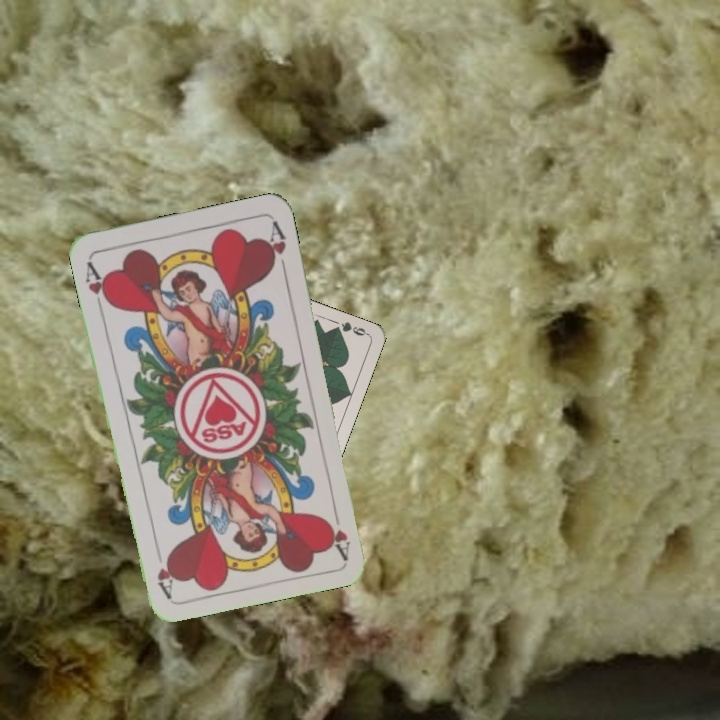G9: (329, 318, 370, 339)
HA: (81, 257, 114, 315), (321, 501, 353, 560)
